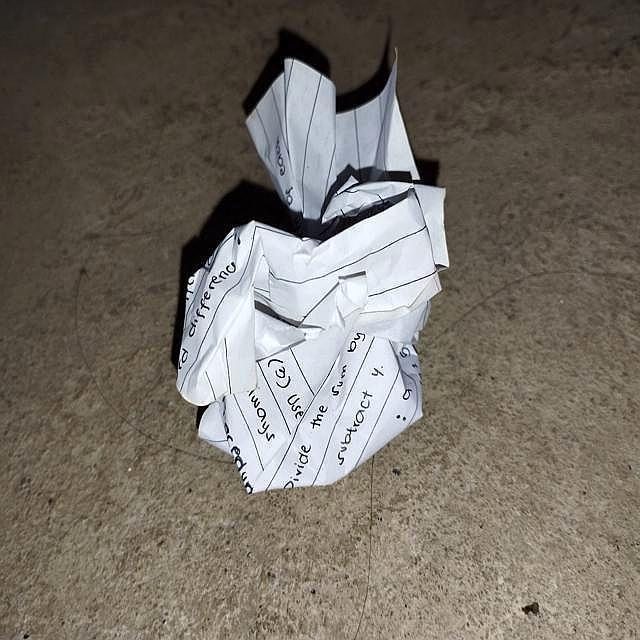Biodegradable: (175, 63, 447, 495)
